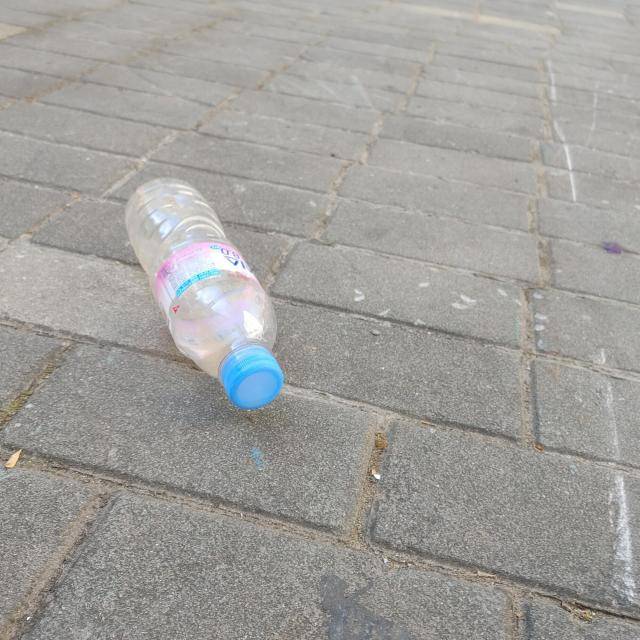plastic: (125, 178, 283, 409)
